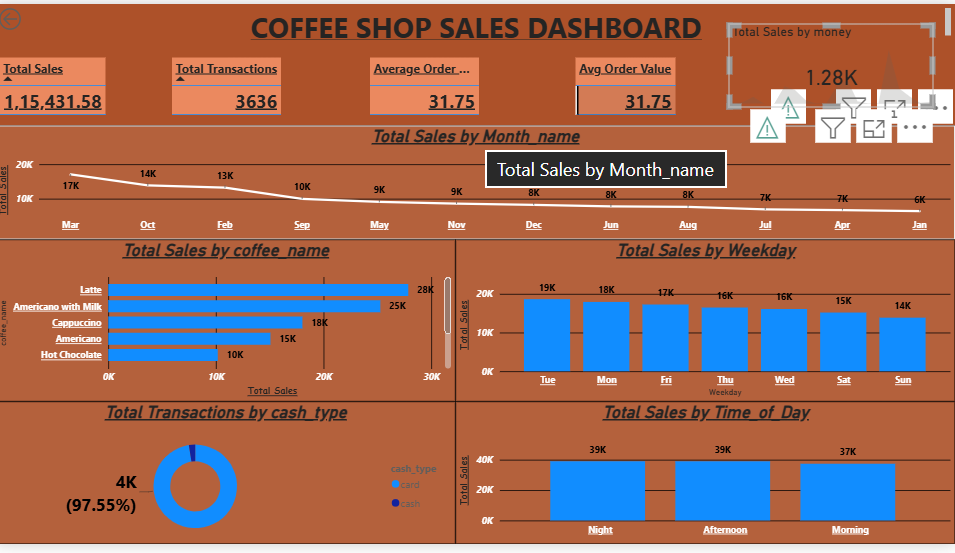

This screenshot's page, from the dashboard's own definition file:
{"tool":"powerbi","page":{"name":"Page 1","canvas":[1280,720],"ordinal":0},"visuals":[{"type":"textbox","box":[0,0,1066,88],"z":0},{"type":"actionButton","box":[0,0,100,40],"z":1000},{"type":"cardVisual","fields":{"Data":["Table_1.Average Order Value"]},"box":[498,88,286,112],"z":2000},{"type":"cardVisual","fields":{"Data":["Table_1.Total Sales"]},"box":[0,88,224,112],"z":3000},{"type":"cardVisual","fields":{"Data":["Table_1.Total Transactions"]},"box":[224,88,274,112],"z":4000},{"type":"cardVisual","fields":{"Data":["Table_1.Total Products"]},"box":[784,88,282,112],"z":5000},{"type":"lineChart","fields":{"Y":["Table_1.Total Sales"],"Category":["Table_1.Month_name"]},"box":[0,200,562,262],"z":6000},{"type":"barChart","fields":{"Category":["Table_1.coffee_name"],"Y":["Table_1.Total Sales"]},"box":[562,200,504,262],"z":7000},{"type":"donutChart","fields":{"Category":["Table_1.cash_type"],"Y":["Table_1.Total Transactions"]},"box":[0,462,562,258],"z":8000},{"type":"clusteredColumnChart","fields":{"Y":["Table_1.Total Sales"],"Category":["Table_1.Time_of_Day"]},"box":[562,462,504,258],"z":9000},{"type":"listSlicer","fields":{"Values":["Table_1.Month_name"]},"box":[1066.7,0,213.3,283.3],"z":10000},{"type":"listSlicer","fields":{"Values":["Table_1.coffee_name"]},"box":[1066.7,283.3,213.3,293.3],"z":11000},{"type":"listSlicer","fields":{"Values":["Table_1.Time_of_Day"]},"box":[1065,576.7,213.3,143.3],"z":12000}]}

Visuals, with their boxes in screenshot pixels (x1, y1, x2, y2), scaled from the page's 1280x720 canvas onto the 955x553 screenshot:
textbox: rect(0, 0, 795, 68)
actionButton: rect(0, 0, 75, 31)
cardVisual - Table_1.Average Order Value: rect(372, 68, 585, 154)
cardVisual - Table_1.Total Sales: rect(0, 68, 167, 154)
cardVisual - Table_1.Total Transactions: rect(167, 68, 372, 154)
cardVisual - Table_1.Total Products: rect(585, 68, 795, 154)
lineChart - Table_1.Total Sales x Table_1.Month_name: rect(0, 154, 419, 355)
barChart - Table_1.coffee_name x Table_1.Total Sales: rect(419, 154, 795, 355)
donutChart - Table_1.cash_type x Table_1.Total Transactions: rect(0, 355, 419, 552)
clusteredColumnChart - Table_1.Total Sales x Table_1.Time_of_Day: rect(419, 355, 795, 552)
listSlicer - Table_1.Month_name: rect(796, 0, 954, 218)
listSlicer - Table_1.coffee_name: rect(796, 218, 954, 443)
listSlicer - Table_1.Time_of_Day: rect(795, 443, 954, 552)
